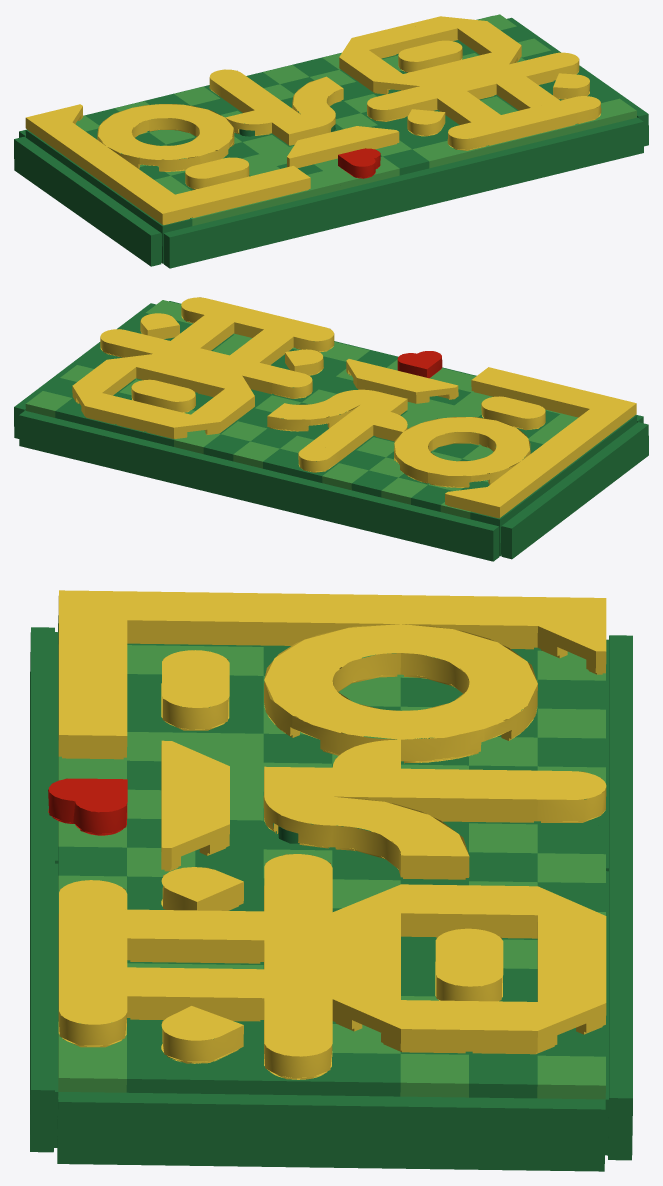
The picture shows the model from 3 angles, top to bottom: view 1: azimuth 30°, elevation 25°; view 2: azimuth 150°, elevation 25°; view 3: azimuth 270°, elevation 25°; orthographic projection. The views are drawn at different scales.
Parts seen in each view (by area): view 1: 晋祠绿色; view 2: 晋祠绿色; view 3: 晋祠绿色.
Boxes of the visible parts, left/top/right/bottom form: 晋祠绿色: left=14, top=14, right=648, bottom=268; 晋祠绿色: left=14, top=297, right=648, bottom=561; 晋祠绿色: left=30, top=590, right=632, bottom=1171.
Size of the model in its own units: 336 by 34.61 by 176.
